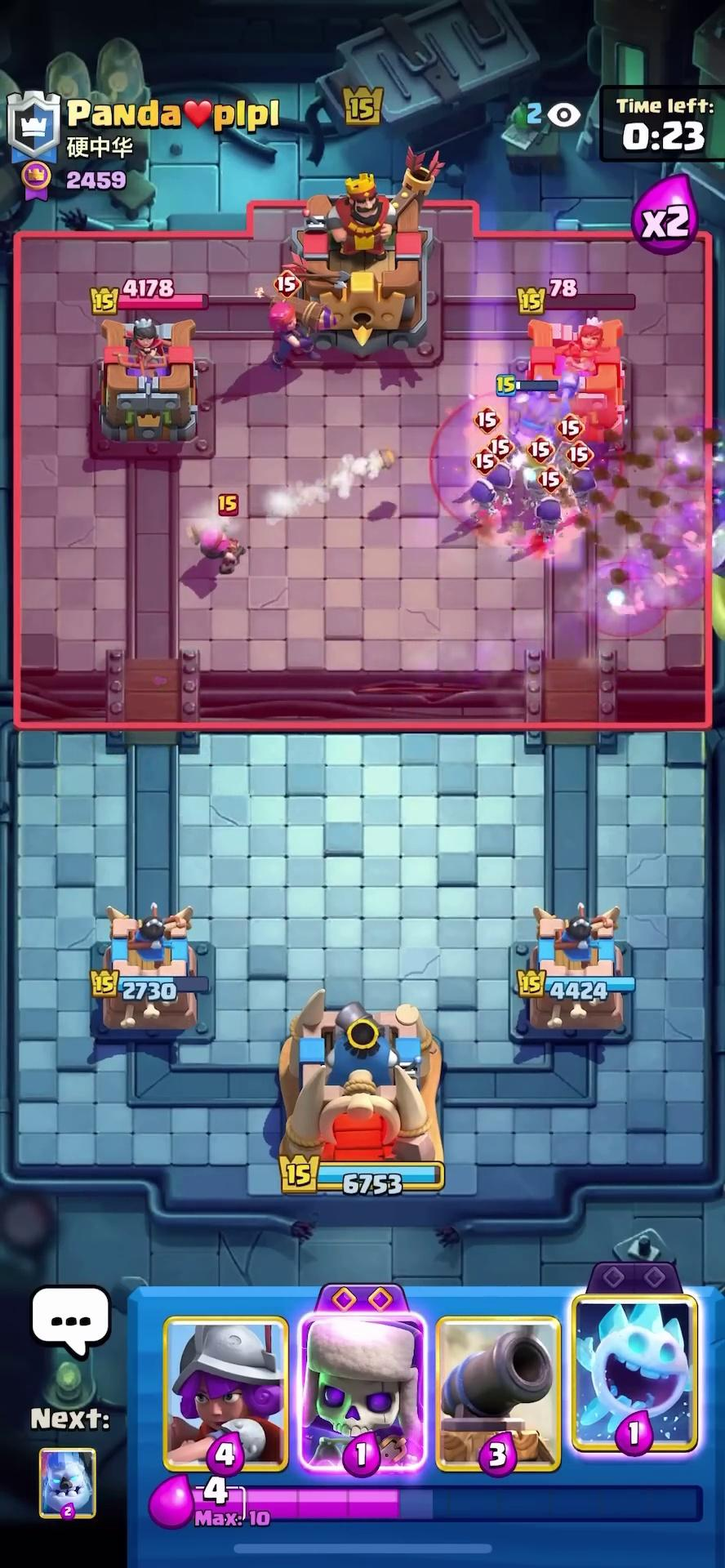hog_rider: (492, 361, 582, 463)
